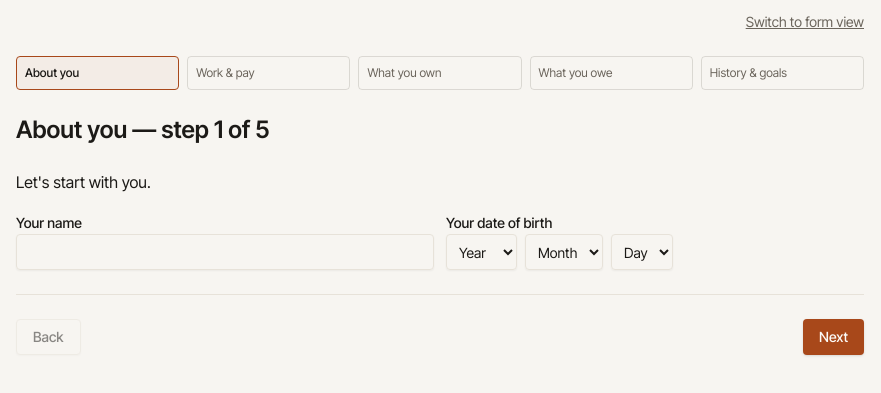
Test: FlowShell › Next without a name shows a field error and stays on step 1
The image size is (881, 393).
Check: the heading "About you — step 1 of 5" is shown, box left=16, top=115, right=270, bottom=144
Click the button "Next": x=834, y=337 left=803, top=319, right=864, bottom=355
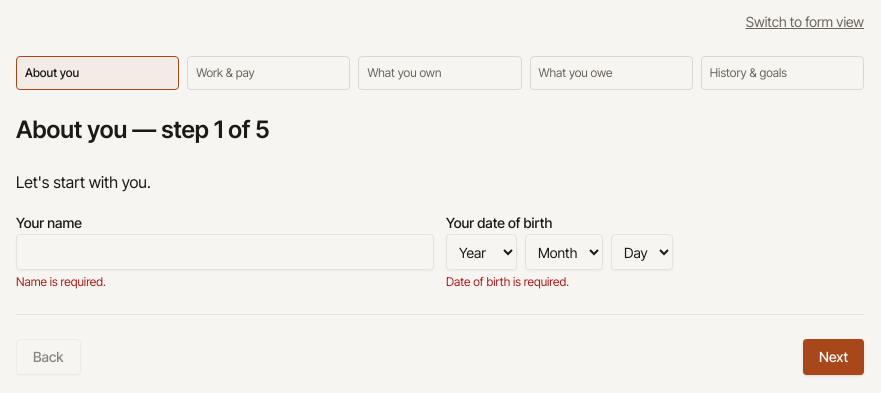
Check: the heading "About you — step 1 of 5" is shown, box left=16, top=115, right=270, bottom=144
Check: the text "Name is required." is shown, box left=16, top=274, right=106, bottom=289
Check: the text "Date of birth is required." is shown, box left=446, top=274, right=569, bottom=289
